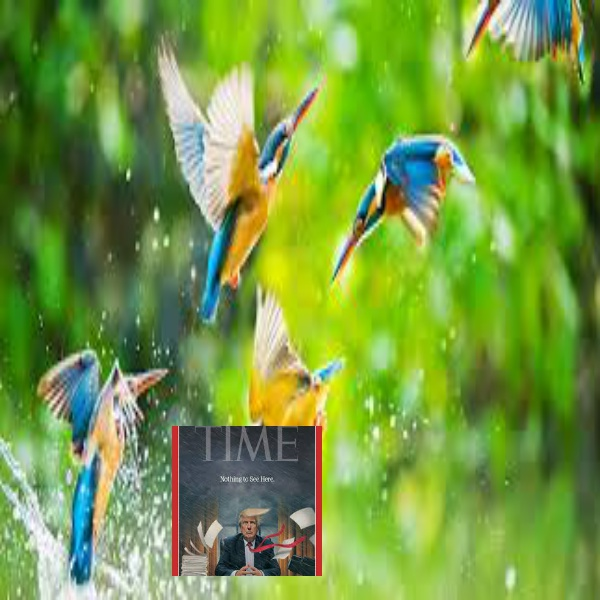time_cover: (161, 409, 331, 581)
